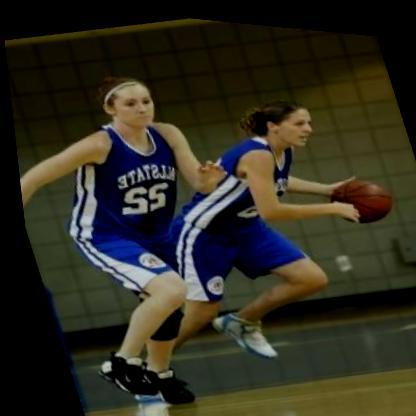basketball: (322, 159, 396, 227)
